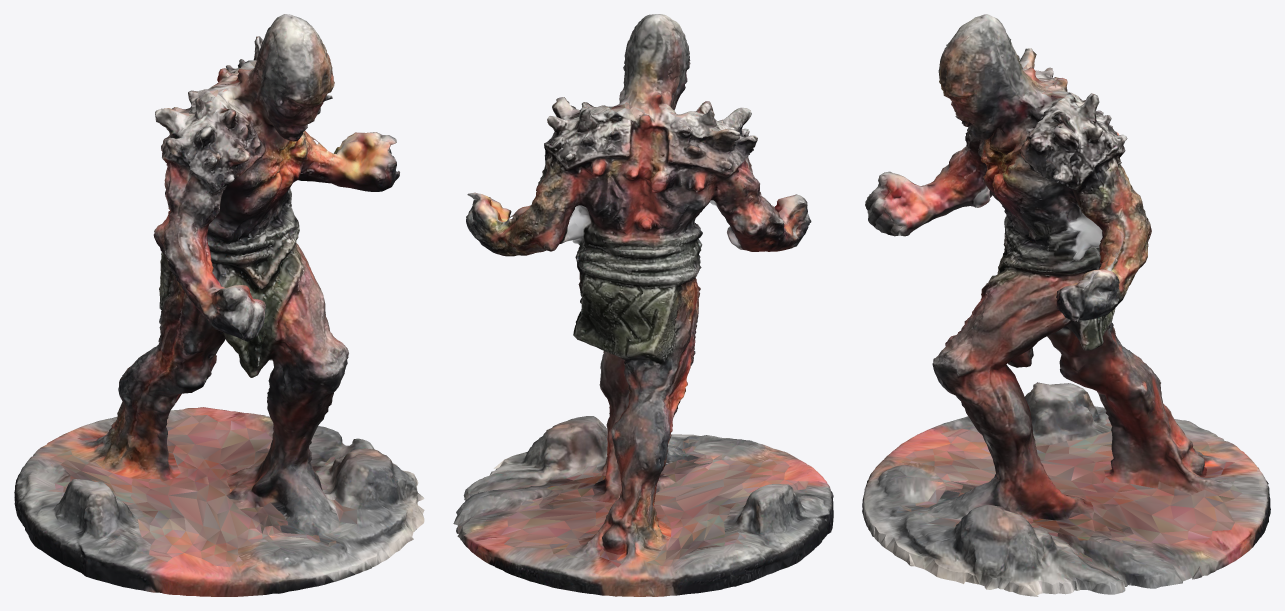
File: Meteor.glb
3 views of the same model, side by side, from view 1: azimuth 30°, elevation 25°; view 2: azimuth 150°, elevation 25°; view 3: azimuth 270°, elevation 25° (orthographic). The views are drawn at different scales.
Parts seen in each view (by area): view 1: pyroclast; view 2: pyroclast; view 3: pyroclast.
Boxes of the visible parts, x1,y1,x2,y2 form: pyroclast: (14,14,424,596); pyroclast: (453,14,833,596); pyroclast: (862,14,1270,596).
Bounding box in the file's own units: 8.06 × 10.97 × 7.97.
1 material, 1 textured.
